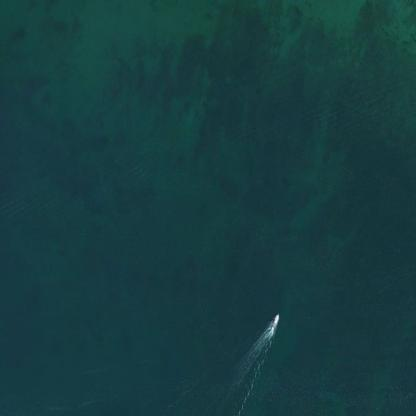ship: (262, 305, 284, 339)
